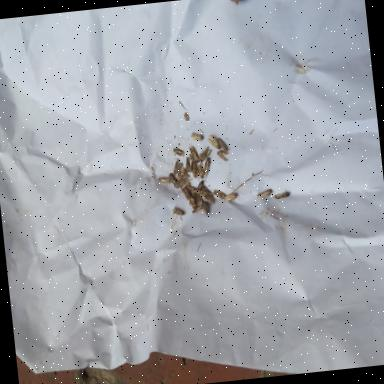pbw: (202, 156, 214, 182), (169, 158, 185, 176), (188, 143, 200, 164), (208, 134, 222, 152), (256, 188, 276, 200), (198, 145, 212, 162), (216, 148, 230, 164), (167, 173, 180, 190), (154, 174, 172, 186), (274, 188, 292, 200), (195, 162, 206, 180), (172, 143, 185, 158), (171, 206, 186, 219), (192, 160, 200, 184), (174, 166, 186, 182), (213, 188, 227, 201), (187, 192, 197, 210), (190, 132, 204, 144), (186, 184, 200, 196), (217, 137, 228, 152), (178, 179, 192, 190), (190, 205, 204, 216), (203, 185, 214, 199), (182, 186, 192, 201), (224, 192, 238, 202), (184, 157, 192, 173), (197, 178, 206, 192), (204, 194, 215, 205), (174, 179, 186, 188), (196, 193, 204, 206), (183, 168, 190, 180)
